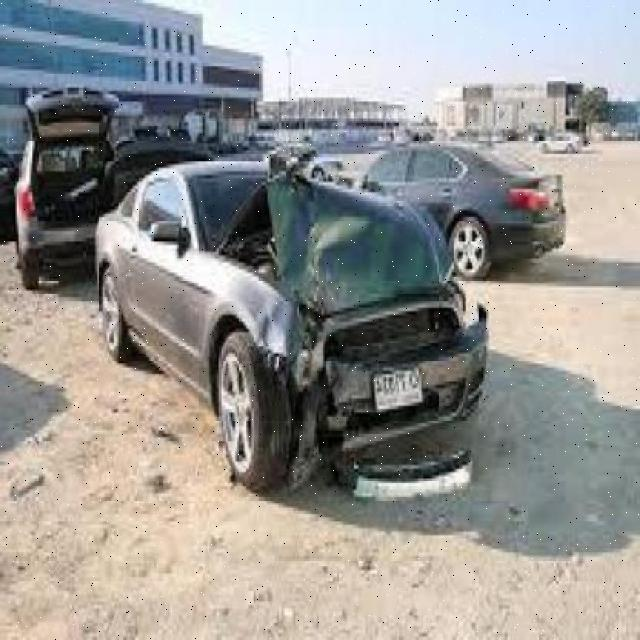damage: (213, 174, 490, 473)
